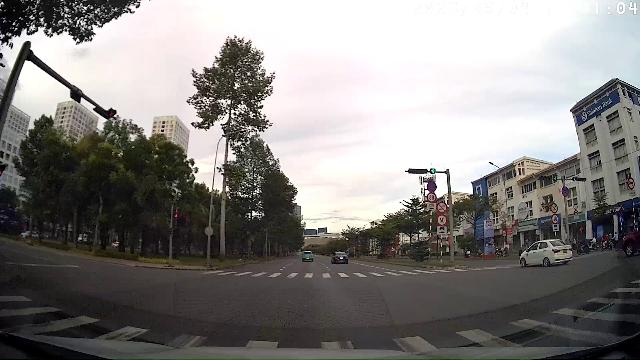127-toc-do-toi-da-60: (436, 215, 448, 226), (552, 214, 558, 223)
127-toc-do-toi-da-80: (427, 192, 437, 202)
130-cam-dung-va-do-xe: (427, 182, 437, 192), (562, 186, 568, 196)
